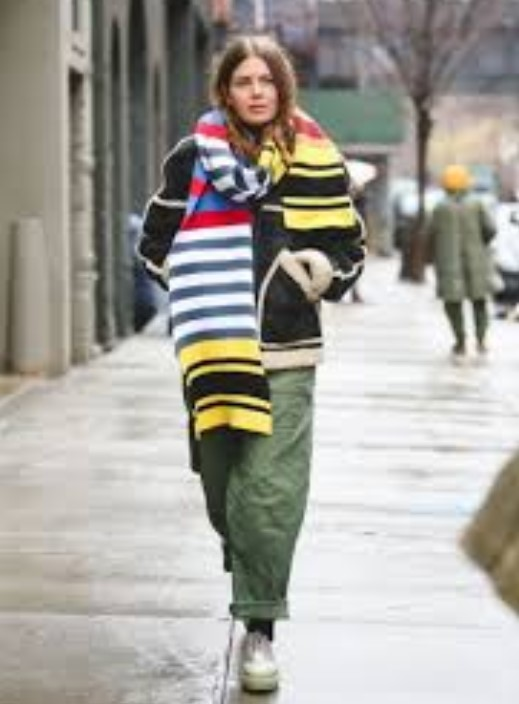face_no_mask: (222, 46, 288, 130)
